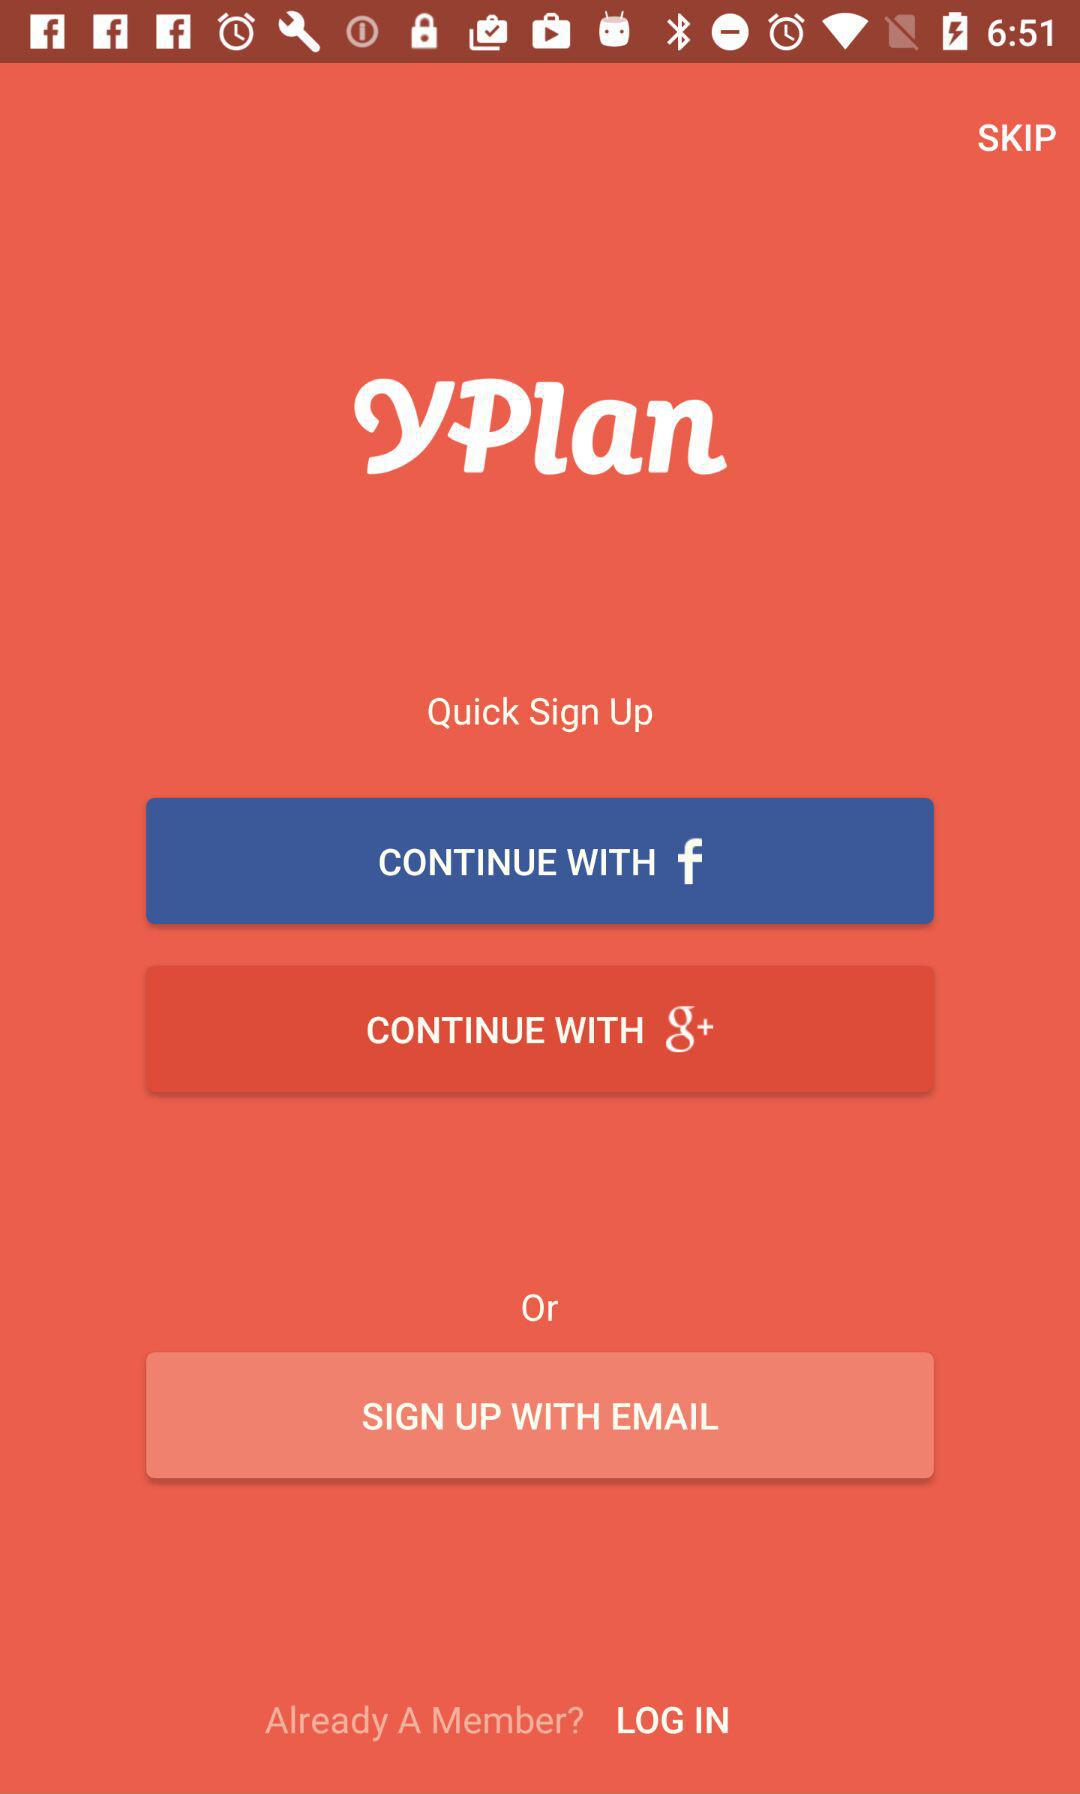Image: (354, 379, 730, 478)
Text: (263, 1703, 585, 1743), (427, 695, 653, 736), (618, 1706, 730, 1736), (978, 123, 1058, 154), (521, 1293, 560, 1324)
TextButton: (145, 965, 935, 1096), (146, 1352, 935, 1479), (146, 798, 934, 925)
UpperTaskBar: (1, 1, 1080, 64)
